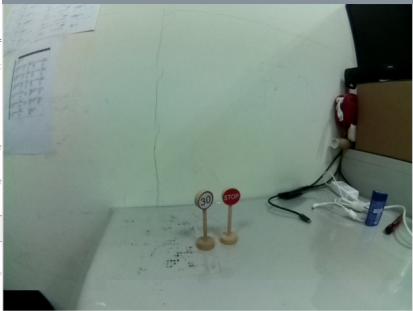Speed30: (193, 188, 215, 211)
Stop: (221, 186, 242, 208)
